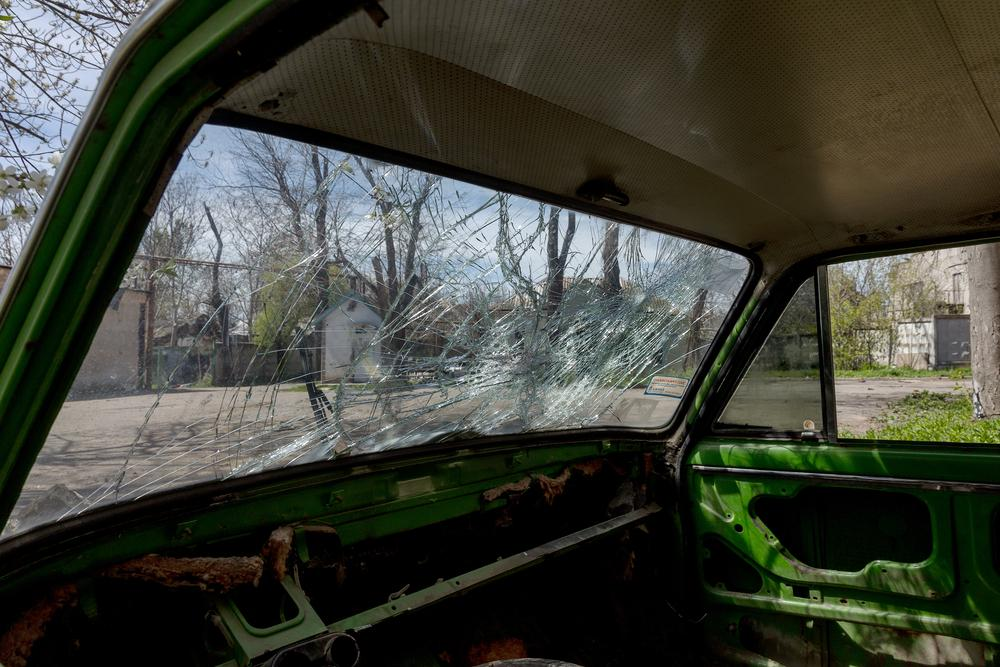glass shatter: (0, 120, 750, 543)
